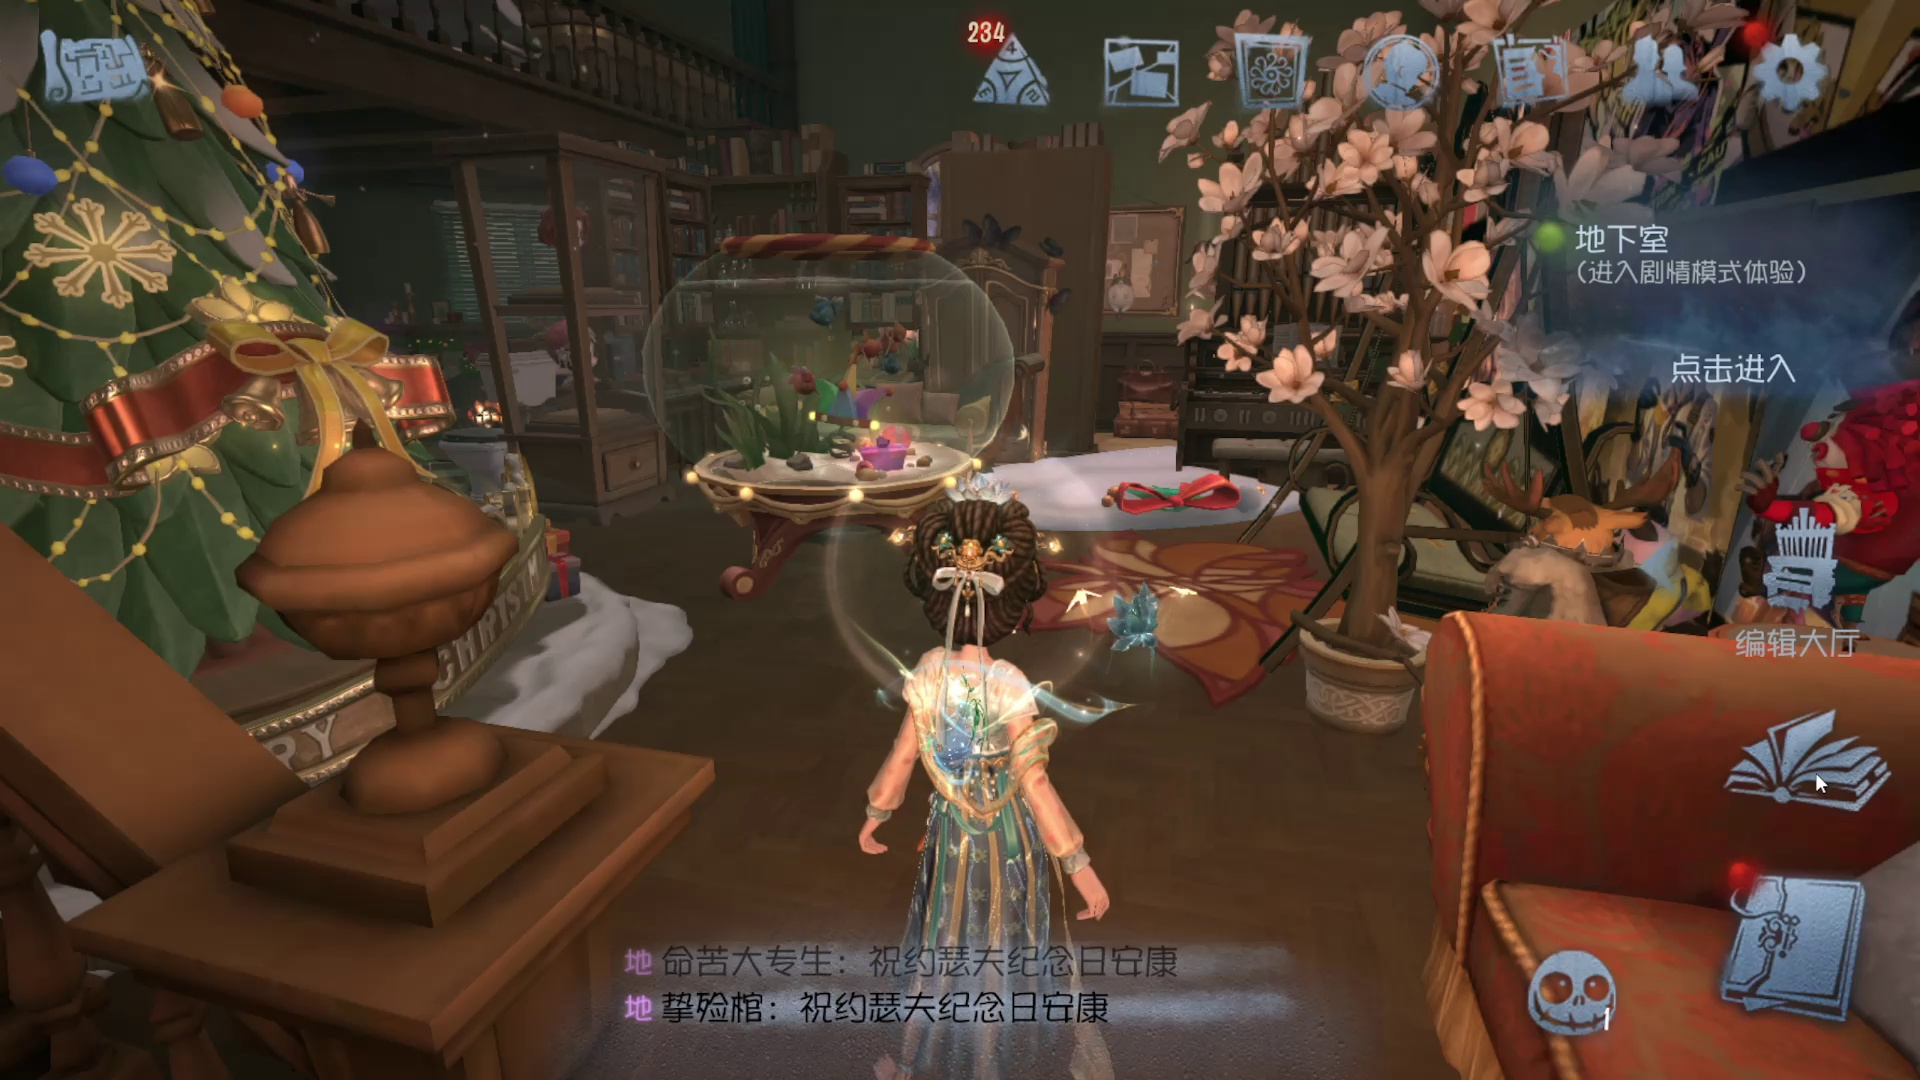大厅: (1672, 666, 1900, 840)
